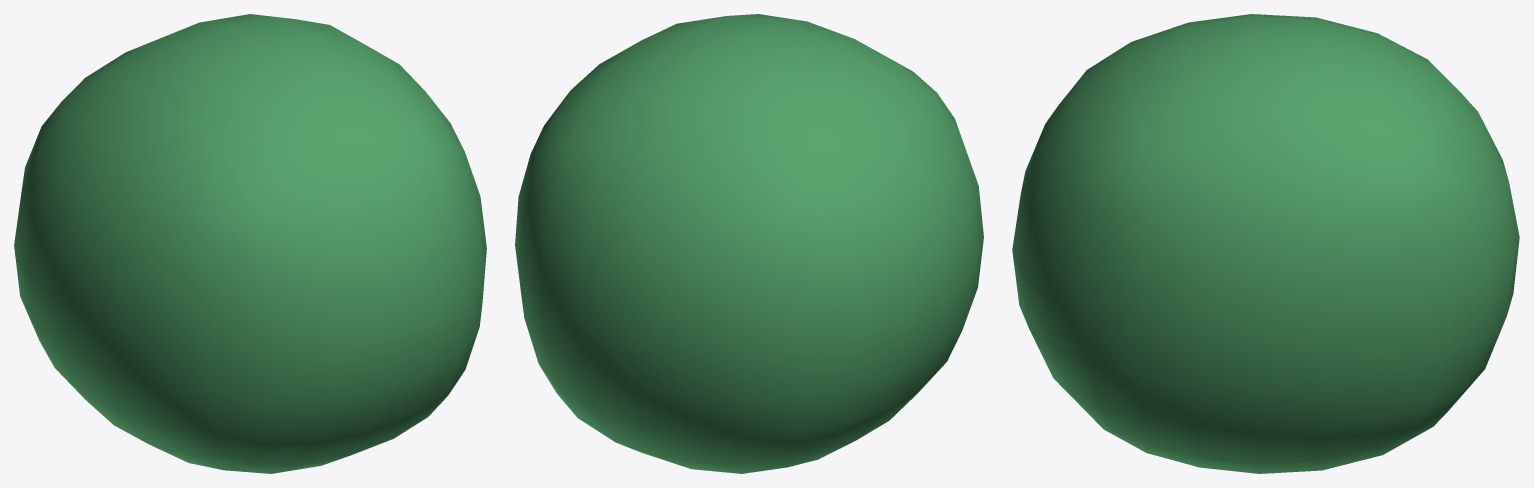
Rendered from Pea_01.dae.
3 views of the same model, side by side, from view 1: azimuth 30°, elevation 25°; view 2: azimuth 150°, elevation 25°; view 3: azimuth 270°, elevation 25° (orthographic). The views are drawn at different scales.
Visible parts, largest first — view 1: Pea_01_LOD0; view 2: Pea_01_LOD0; view 3: Pea_01_LOD0.
Boxes of the visible parts, x1=… form: Pea_01_LOD0: x1=14, y1=14, x2=486, y2=473; Pea_01_LOD0: x1=515, y1=14, x2=983, y2=473; Pea_01_LOD0: x1=1012, y1=14, x2=1519, y2=473.
Size of what is drawn, in the model's own units: 1.42 by 1.53 by 1.38.
